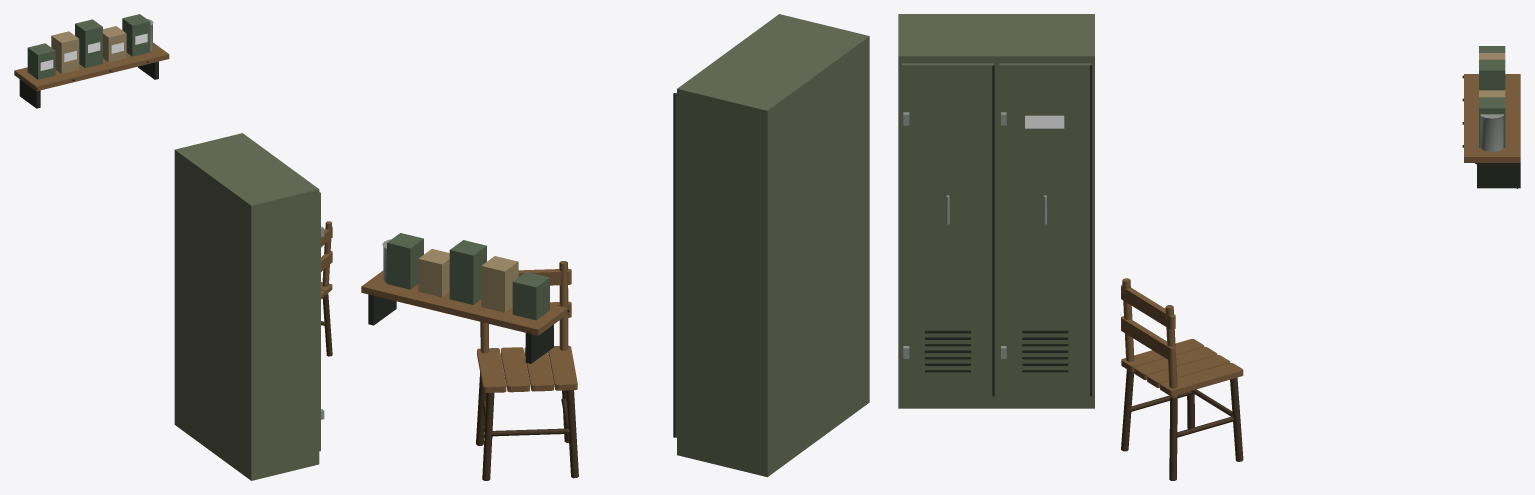
Rendered from SM_FieldStation_Hut_Props_LOD1.fbx.
The picture shows the model from 3 angles, left to right: view 1: azimuth 30°, elevation 25°; view 2: azimuth 150°, elevation 25°; view 3: azimuth 270°, elevation 25°; orthographic projection. The views are drawn at different scales.
Visible parts, largest first — view 1: SM_FieldStation_Hut_Props_LOD1; view 2: SM_FieldStation_Hut_Props_LOD1; view 3: SM_FieldStation_Hut_Props_LOD1.
Boxes of the visible parts, <box> form: SM_FieldStation_Hut_Props_LOD1: <box>14,14,332,480</box>; SM_FieldStation_Hut_Props_LOD1: <box>361,14,869,480</box>; SM_FieldStation_Hut_Props_LOD1: <box>898,14,1520,480</box>.
Bounding box in the file's own units: 1.27 × 2.85 × 1.78.
